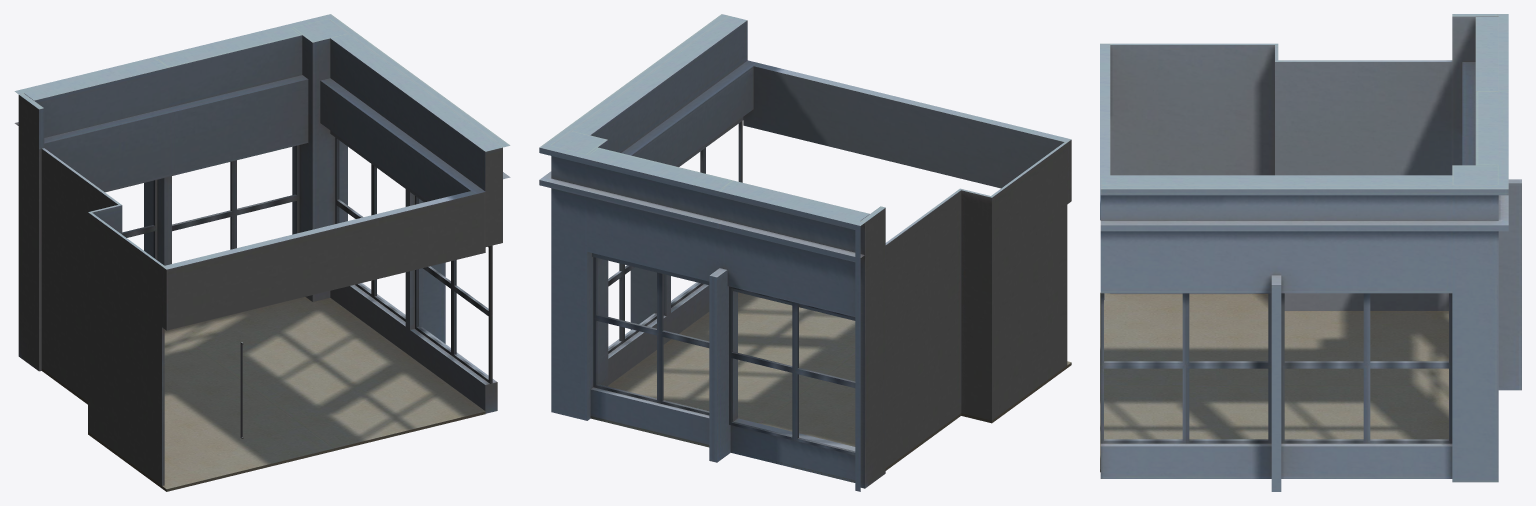
3 renders of one model, left to right at view 1: azimuth 30°, elevation 25°; view 2: azimuth 150°, elevation 25°; view 3: azimuth 270°, elevation 25°, orthographic. The views are drawn at different scales.
Parts seen in each view (by area): view 1: hc_2floor_room004_0; view 2: hc_2floor_room004_0; view 3: hc_2floor_room004_0.
Part boxes in pixels (<box>): hc_2floor_room004_0: <box>14,14,510,491</box>; hc_2floor_room004_0: <box>539,14,1071,491</box>; hc_2floor_room004_0: <box>1100,14,1521,491</box>.
Size of the model in its own units: 0.7 by 0.4943 by 0.6361.
1 material, 1 textured.
